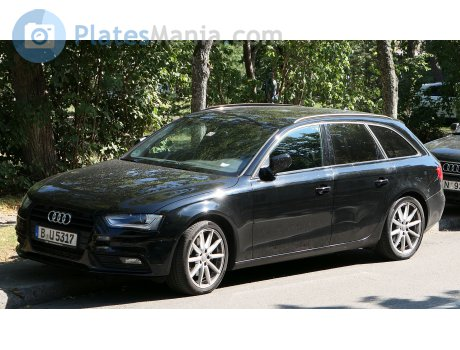License Plates: (37, 227, 76, 241)
